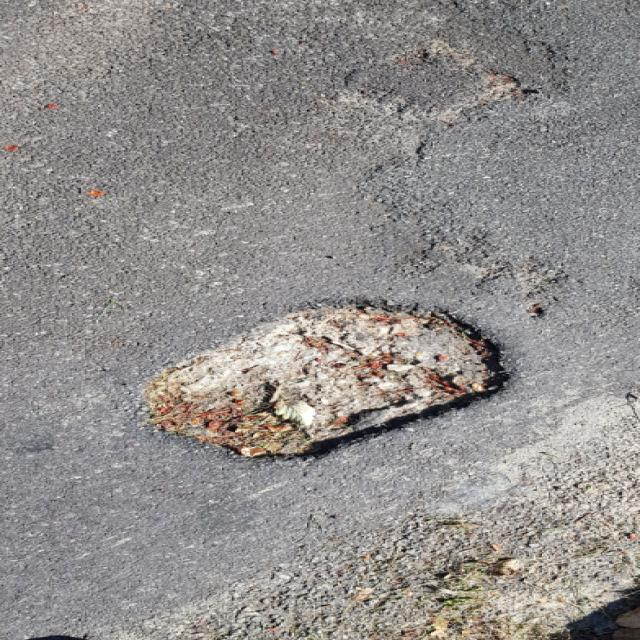pothole: (130, 294, 514, 467)
